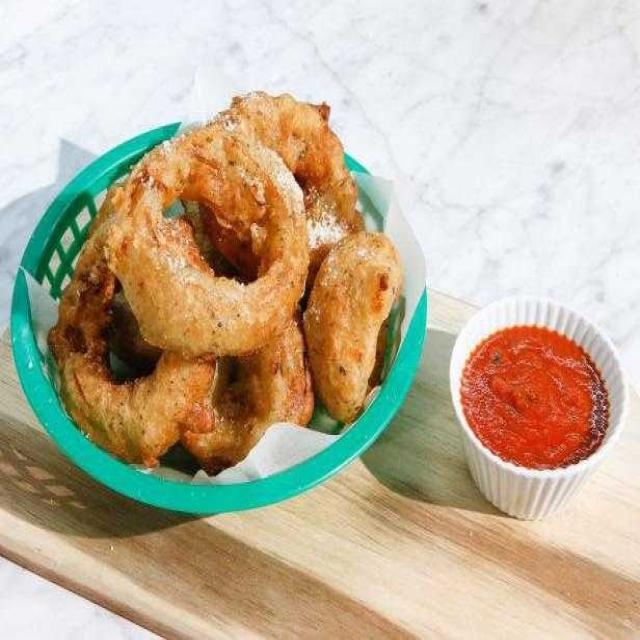onion: (102, 124, 310, 358), (49, 212, 219, 470), (223, 97, 366, 298), (187, 295, 316, 472), (306, 233, 405, 427)
